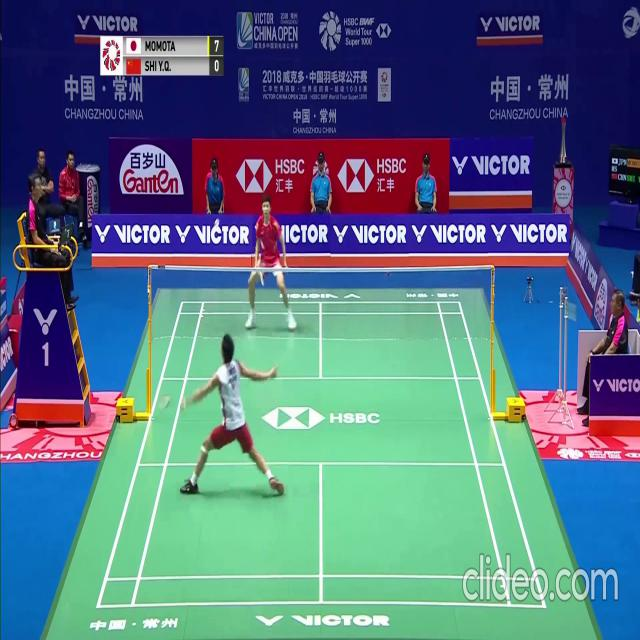Shuttlecock: (215, 217, 220, 225)
